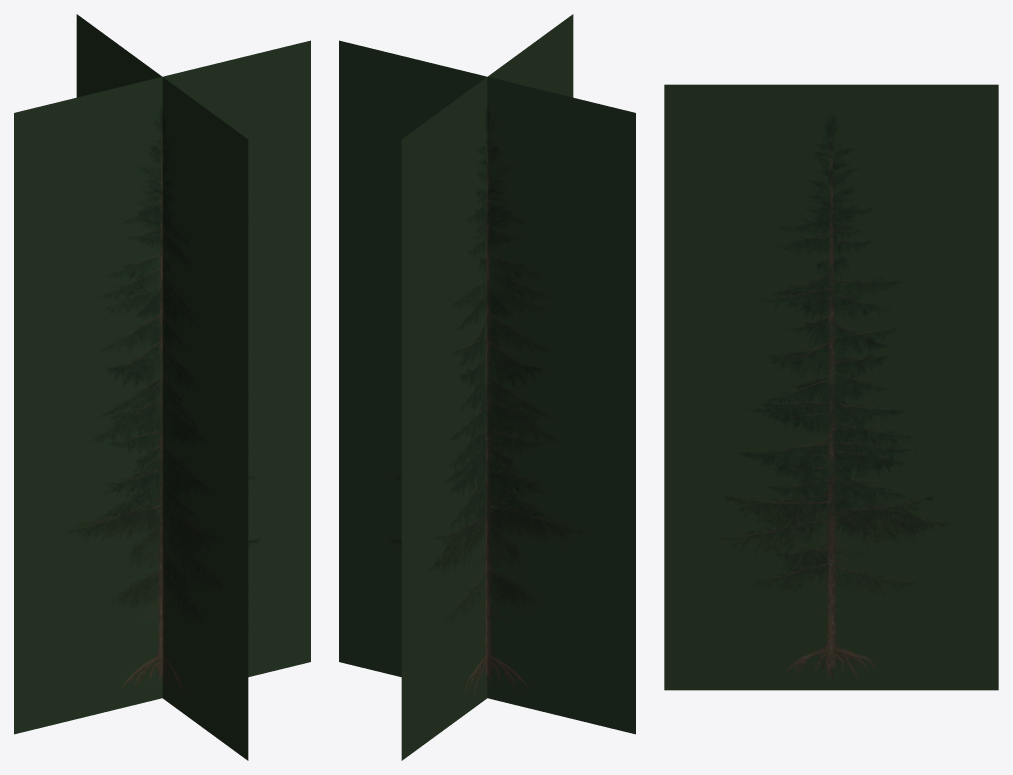
File: Spruce_Tree2_LOD4.fbx
The picture shows the model from 3 angles, left to right: view 1: azimuth 30°, elevation 25°; view 2: azimuth 150°, elevation 25°; view 3: azimuth 270°, elevation 25°; orthographic projection. The views are drawn at different scales.
Visible parts, largest first — view 1: polySurface2700; view 2: polySurface2700; view 3: polySurface2700.
Part boxes in pixels (x1,y1,x2,y2): polySurface2700: [14, 14, 310, 760]; polySurface2700: [339, 14, 635, 760]; polySurface2700: [664, 84, 998, 690].
Size of the model in its own units: 1225 by 2449 by 1225.
